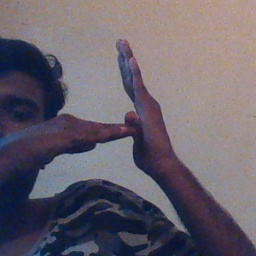Z: (64, 35, 190, 181)
